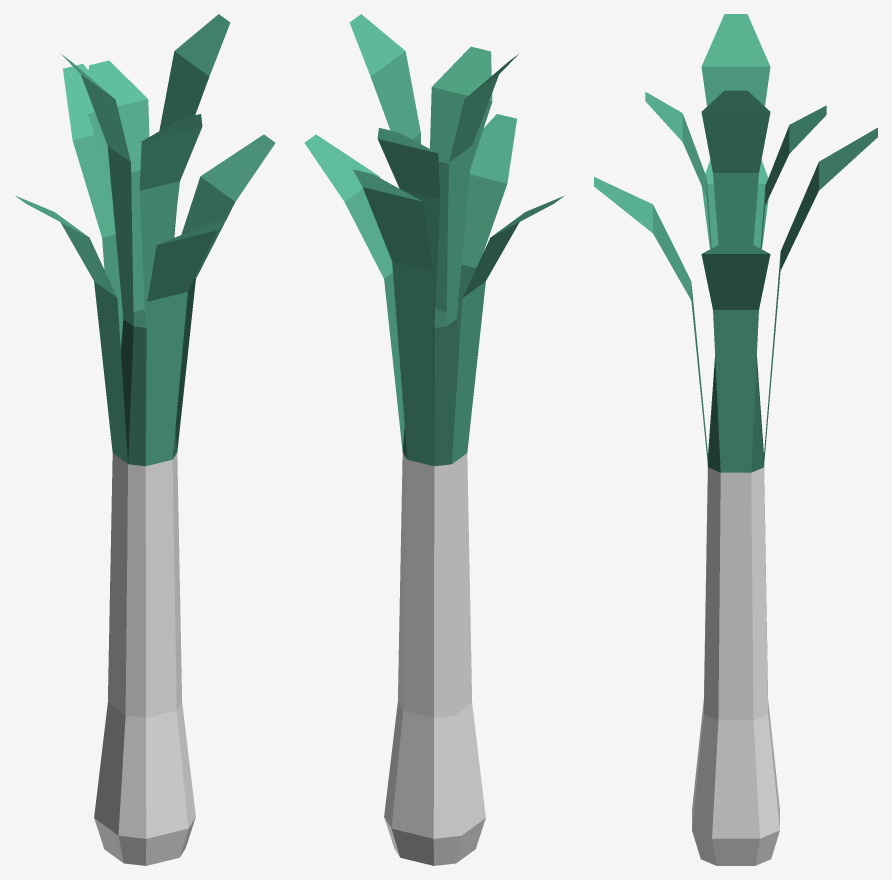
File: leek.obj
3 views of the same model, side by side, from view 1: azimuth 30°, elevation 25°; view 2: azimuth 150°, elevation 25°; view 3: azimuth 270°, elevation 25° (orthographic).
Visible parts, largest first — view 1: leek; view 2: leek; view 3: leek.
Boxes of the visible parts, left/top/right/bottom form: leek: left=16, top=14, right=275, bottom=865; leek: left=304, top=14, right=563, bottom=865; leek: left=594, top=14, right=877, bottom=865.
Size of the model in its own units: 0.2729 by 0.8474 by 0.2729.
